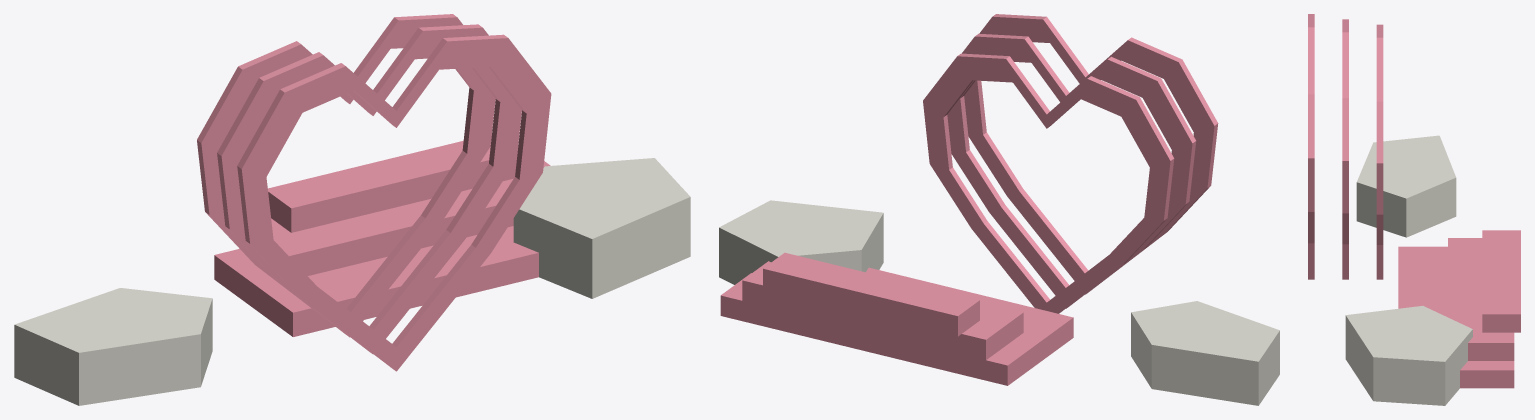
File: huashan-happiness-corner-massing.glb
3 views of the same model, side by side, from view 1: azimuth 30°, elevation 25°; view 2: azimuth 150°, elevation 25°; view 3: azimuth 270°, elevation 25° (orthographic). The views are drawn at different scales.
Parts seen in each view (by area): view 1: huashan-happiness-corner-pink-massing, huashan-happiness-corner-light-massing; view 2: huashan-happiness-corner-pink-massing, huashan-happiness-corner-light-massing; view 3: huashan-happiness-corner-pink-massing, huashan-happiness-corner-light-massing.
Part boxes in pixels (<box>): huashan-happiness-corner-pink-massing: <box>197,14,551,371</box>; huashan-happiness-corner-light-massing: <box>14,158,690,405</box>; huashan-happiness-corner-pink-massing: <box>720,14,1218,385</box>; huashan-happiness-corner-light-massing: <box>719,200,1279,405</box>; huashan-happiness-corner-pink-massing: <box>1308,14,1520,388</box>; huashan-happiness-corner-light-massing: <box>1345,135,1472,405</box>.
Bounding box in the file's own units: 9.9 × 4.67 × 3.85.
